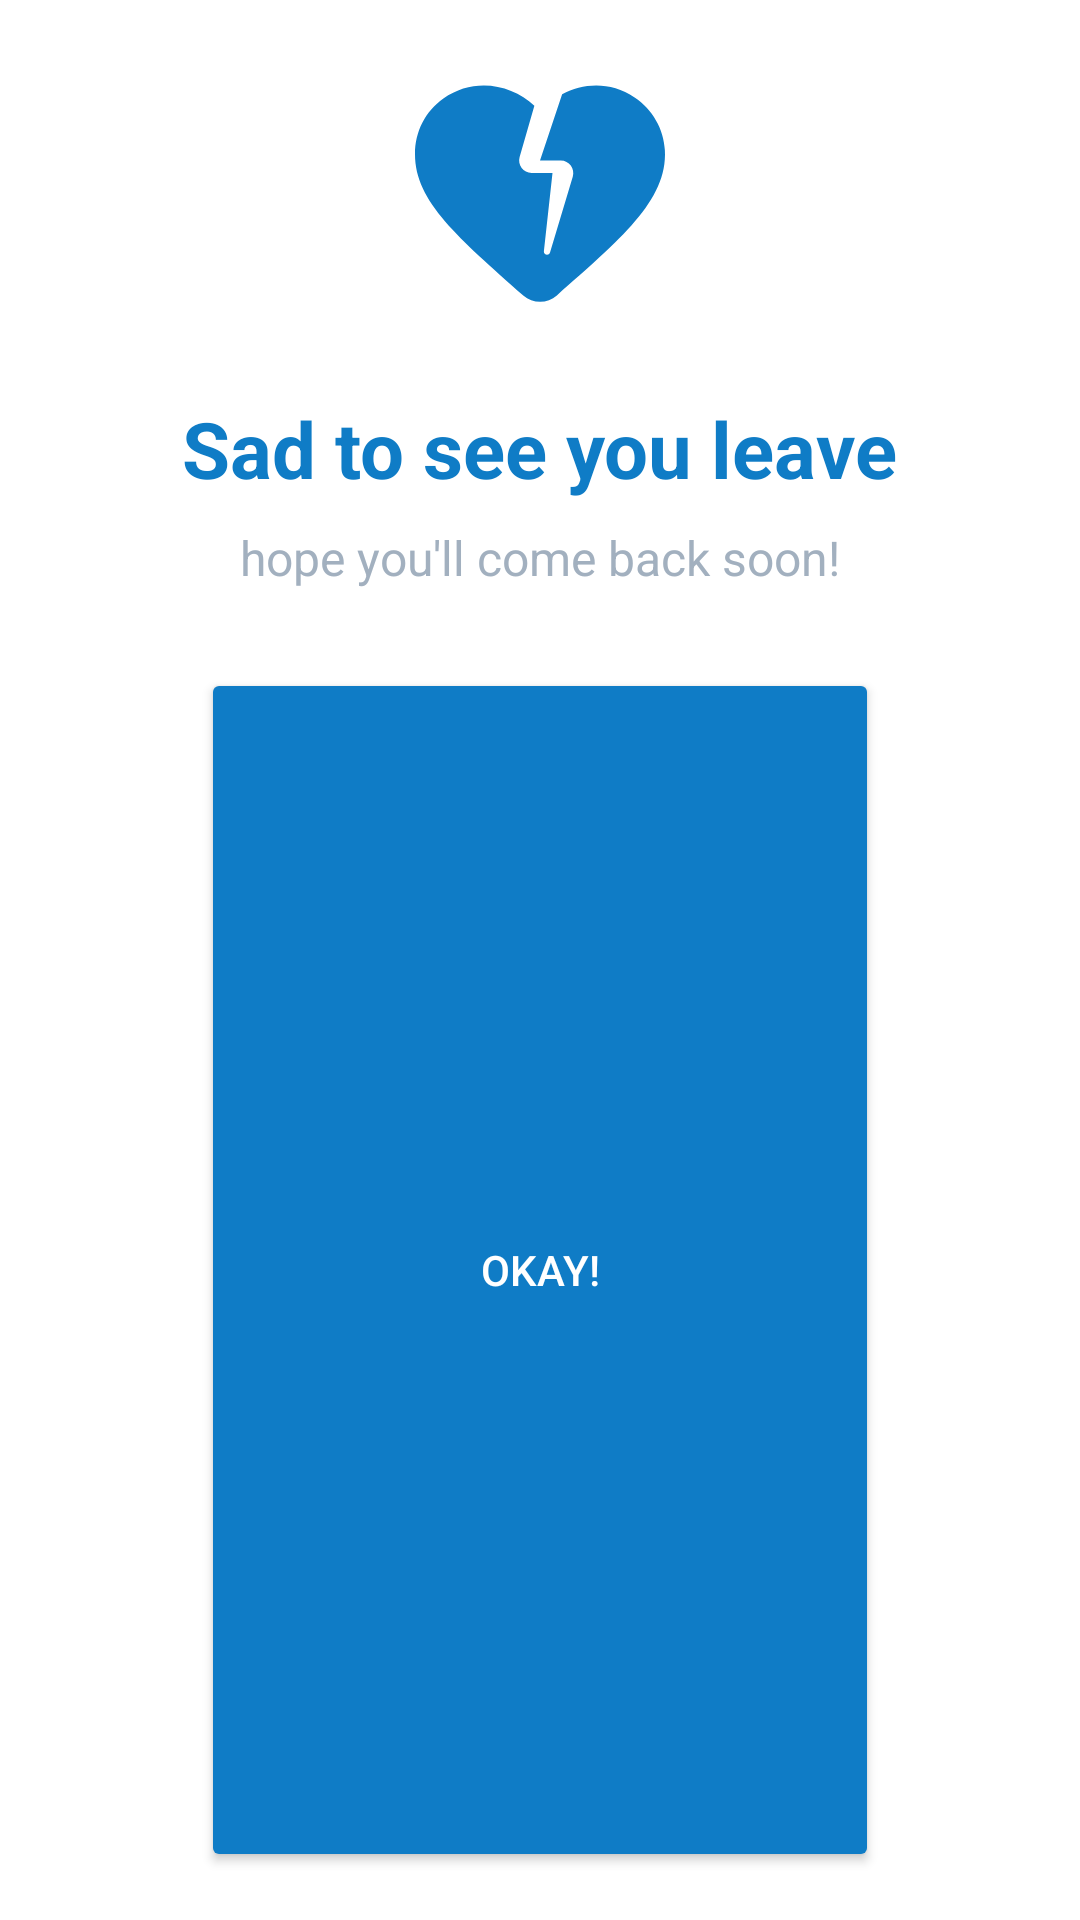

Screen size 1080w x 1920h. Icon name, then its box in pixels as [x1,y1,x2,y2]:
heartbroken: [415,85,665,302]
